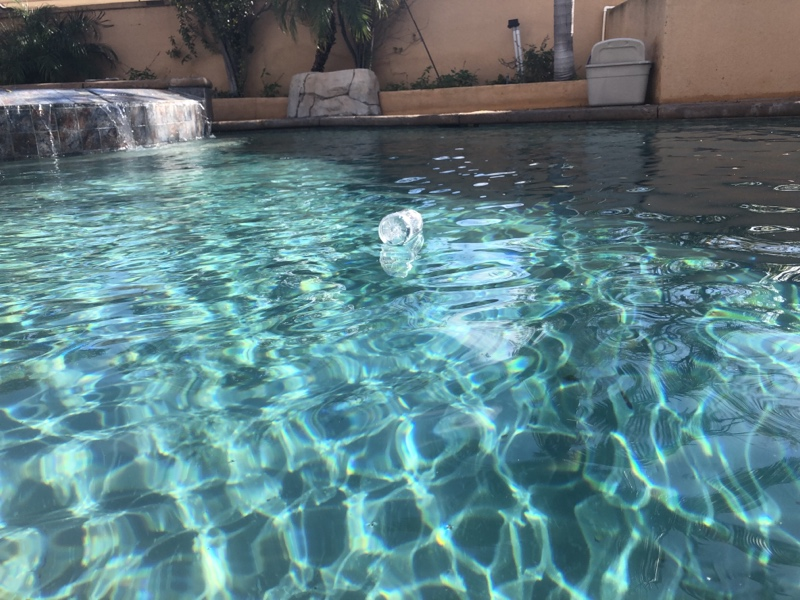Plastic Bottle: (374, 205, 428, 252)
